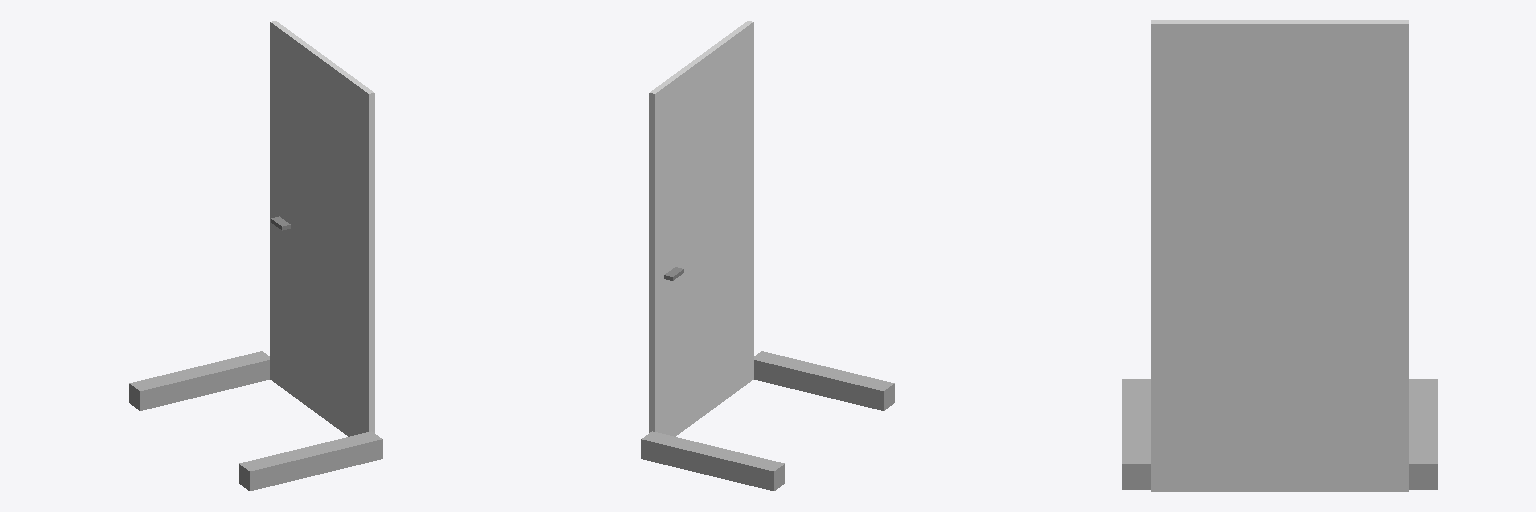
robot.urdf — DRCTestbedDoor_static:
<?xml version="1.0"?>
<robot name="DRCTestbedDoor_static"
       xmlns:xi="http://www.w3.org/2001/XInclude"
       >
  <gazebo>
    <static>true</static>
  </gazebo>
  <link name="ROOT-LINK_link">
    <visual>
      <origin xyz="0 0 0" rpy="0 -0 0"/>
      <geometry>
        <mesh filename="model://DRCTestbedDoor/meshes/ROOT-LINK_link_mesh.dae" scale="1 1 1" />
      </geometry>
    </visual>
    <collision>
      <origin xyz="0 0 0" rpy="0 -0 0"/>
      <geometry>
        <mesh filename="model://DRCTestbedDoor/meshes/ROOT-LINK_link_mesh.dae" scale="1 1 1" />
      </geometry>
    </collision>
    <inertial>
      <mass value="0.001" />
      <origin xyz="0 0 0" rpy="0 -0 0"/>
      <inertia ixx="1e-03" ixy="0" ixz="0" iyy="1e-03" iyz="0" izz="1e-03"/>
    </inertial>
  </link>
  <gazebo reference="ROOT-LINK_link">
    <mu1>0.9</mu1>
    <mu2>0.9</mu2>
  </gazebo>
  <link name="DOOR-PANEL_link">
    <visual>
      <origin xyz="0 0 0" rpy="0 -0 0"/>
      <geometry>
        <mesh filename="model://DRCTestbedDoor/meshes/DOOR-PANEL_link_mesh.dae" scale="1 1 1" />
      </geometry>
    </visual>
    <collision>
      <origin xyz="0 0 0" rpy="0 -0 0"/>
      <geometry>
        <mesh filename="model://DRCTestbedDoor/meshes/DOOR-PANEL_link_mesh.dae" scale="1 1 1" />
      </geometry>
    </collision>
    <inertial>
      <mass value="0.001" />
      <origin xyz="0 0 0" rpy="0 -0 0"/>
      <inertia ixx="1e-03" ixy="0" ixz="0" iyy="1e-03" iyz="0" izz="1e-03"/>
    </inertial>
  </link>
  <gazebo reference="DOOR-PANEL_link">
    <mu1>0.9</mu1>
    <mu2>0.9</mu2>
  </gazebo>
  <link name="DOOR-KNOB_link">
    <visual>
      <origin xyz="0 0.816 0.845" rpy="0 -0 0"/>
      <geometry>
        <mesh filename="model://DRCTestbedDoor/meshes/DOOR-KNOB_link_mesh.dae" scale="1 1 1" />
      </geometry>
    </visual>
    <collision>
      <origin xyz="0 0.816 0.845" rpy="0 -0 0"/>
      <geometry>
        <mesh filename="model://DRCTestbedDoor/meshes/DOOR-KNOB_link_mesh.dae" scale="1 1 1" />
      </geometry>
    </collision>
    <inertial>
      <mass value="0.001" />
      <origin xyz="0 0 0" rpy="0 -0 0"/>
      <inertia ixx="1e-03" ixy="0" ixz="0" iyy="1e-03" iyz="0" izz="1e-03"/>
    </inertial>
  </link>
  <gazebo reference="DOOR-KNOB_link">
    <mu1>0.9</mu1>
    <mu2>0.9</mu2>
  </gazebo>
  <joint name="DOOR-HINGE-JOINT" type="revolute">
    <parent link="ROOT-LINK_link"/>
    <child  link="DOOR-PANEL_link"/>
    <origin xyz="0 0 0" rpy="0 -0 0 "/>
    <axis   xyz="0 0 -1"/>
    <limit lower="-1.5708" upper="1.5708" effort="100" velocity="0.5" />
    <dynamics damping="0.2" friction="0" />
  </joint>
  <transmission type="pr2_mechanism_model/SimpleTransmission" name="DOOR-HINGE-JOINT_trans" >
    <actuator name="DOOR-HINGE-JOINT_motor" />
    <joint name="DOOR-HINGE-JOINT" />
    <mechanicalReduction>1</mechanicalReduction>
  </transmission>
  <gazebo reference="DOOR-HINGE-JOINT">
    <cfmDamping>0.4</cfmDamping>
  </gazebo>
  <joint name="DOOR-KNOB-JOINT" type="revolute">
    <parent link="DOOR-PANEL_link"/>
    <child  link="DOOR-KNOB_link"/>
    <origin xyz="0 0.816 0.845" rpy="0 -0 0 "/>
    <axis   xyz="-1 0 0"/>
    <limit lower="-1.5708" upper="1.5708" effort="100" velocity="0.5" />
    <dynamics damping="0.2" friction="0" />
  </joint>
  <transmission type="pr2_mechanism_model/SimpleTransmission" name="DOOR-KNOB-JOINT_trans" >
    <actuator name="DOOR-KNOB-JOINT_motor" />
    <joint name="DOOR-KNOB-JOINT" />
    <mechanicalReduction>1</mechanicalReduction>
  </transmission>
  <gazebo reference="DOOR-KNOB-JOINT">
    <cfmDamping>0.4</cfmDamping>
  </gazebo>
</robot>

--- Render facts (derived) ---
The picture shows the robot from 3 angles, left to right: view 1: azimuth 30°, elevation 25°; view 2: azimuth 150°, elevation 25°; view 3: azimuth 270°, elevation 25°; orthographic projection.
Robot: DRCTestbedDoor_static — 3 links, 2 joints (2 revolute); root link ROOT-LINK_link; default pose: all joints at 0.
Visible links, largest first — view 1: DOOR-PANEL_link, ROOT-LINK_link; view 2: DOOR-PANEL_link, ROOT-LINK_link; view 3: DOOR-PANEL_link, ROOT-LINK_link.
Link boxes in pixels (left/top/right/bottom): DOOR-PANEL_link: left=270, top=21, right=374, bottom=436; ROOT-LINK_link: left=129, top=351, right=382, bottom=490; DOOR-PANEL_link: left=649, top=21, right=753, bottom=436; ROOT-LINK_link: left=641, top=351, right=894, bottom=490; DOOR-PANEL_link: left=1151, top=20, right=1408, bottom=491; ROOT-LINK_link: left=1122, top=379, right=1437, bottom=489.
Bounding box of the posed robot: 0.715 × 1.1 × 1.8 m (x, y, z).
Meshes: 3 distinct files referenced, 3 mesh visuals loaded (3 Collada DAE).